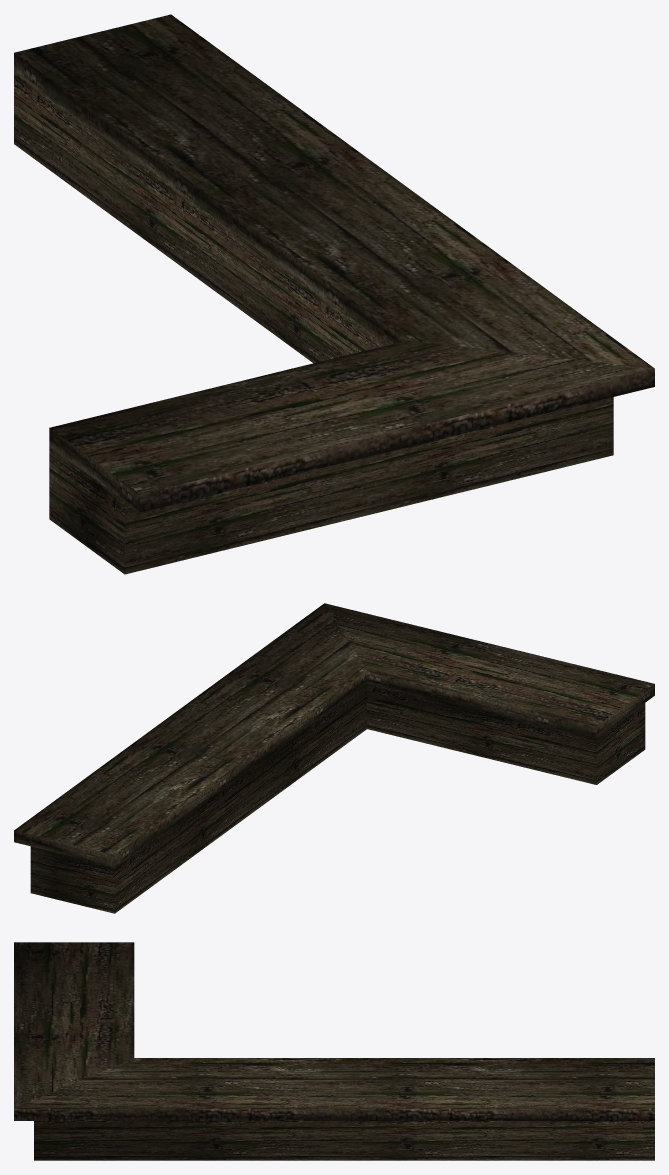
Rendered from NC_LOB_BAR_TABLE1.glb.
3 views of the same model, one above another, from view 1: azimuth 30°, elevation 25°; view 2: azimuth 150°, elevation 25°; view 3: azimuth 270°, elevation 25° (orthographic). The views are drawn at different scales.
Parts seen in each view (by area): view 1: Mesh; view 2: Mesh; view 3: Mesh.
Part boxes in pixels (x1=…): Mesh: x1=14, y1=14, x2=654, y2=574; Mesh: x1=14, y1=603, x2=654, y2=913; Mesh: x1=14, y1=942, x2=654, y2=1160.
Bounding box in the file's own units: 5.9 × 1 × 9.6.
1 material, 1 textured.
